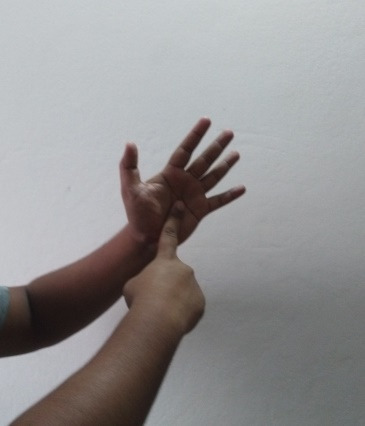oo: (117, 117, 249, 316)
